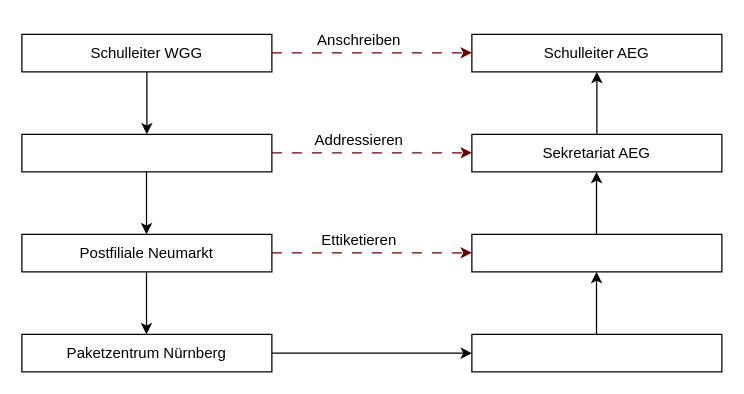
The diagram is 744 pixels wide and 394 high, and some of its shapes have lost their labels. Each missing label, with the centre of its shape:
"Paketzentrum München" goes at (596,352).
"Postfiliale München" goes at (596,252).
"Sekretariat WGG" goes at (146,152).
